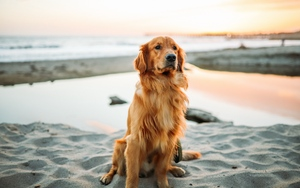dog: (99, 30, 201, 185)
golden-retriever: (101, 32, 203, 187)
